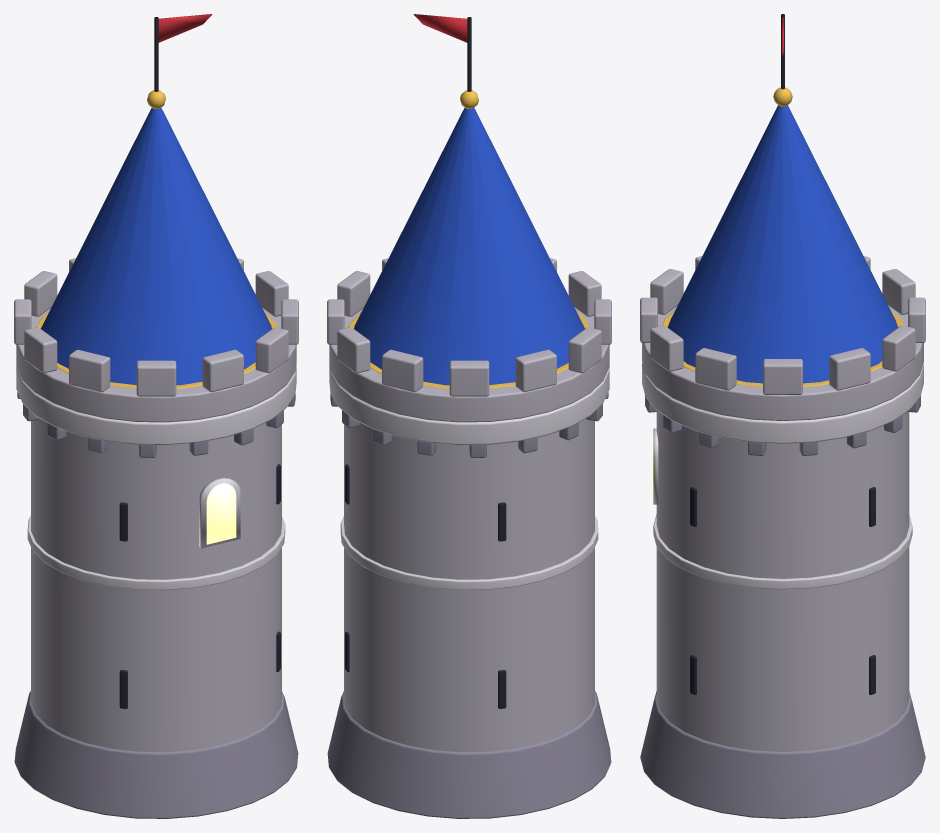
Rendered from faire_tower.glb.
3 renders of one model, left to right at view 1: azimuth 30°, elevation 25°; view 2: azimuth 150°, elevation 25°; view 3: azimuth 270°, elevation 25°, orthographic.
Visible parts, largest first — view 1: Tower; view 2: Tower; view 3: Tower.
Boxes of the visible parts, box(x1,y1,x2,y2) form: Tower: box(14, 14, 298, 818); Tower: box(327, 14, 611, 818); Tower: box(640, 14, 925, 818).
Size of the model in its own units: 6.78 by 19.5 by 6.78.
